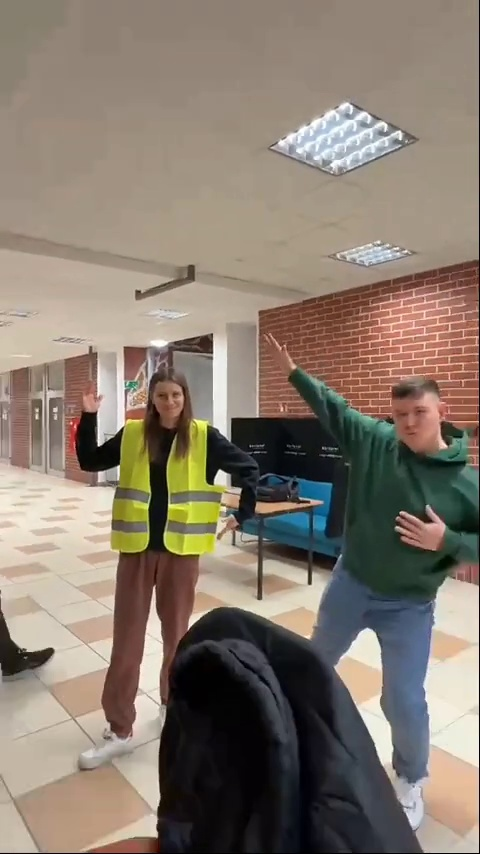no vest: (290, 352, 479, 777)
vest: (89, 361, 264, 759)
